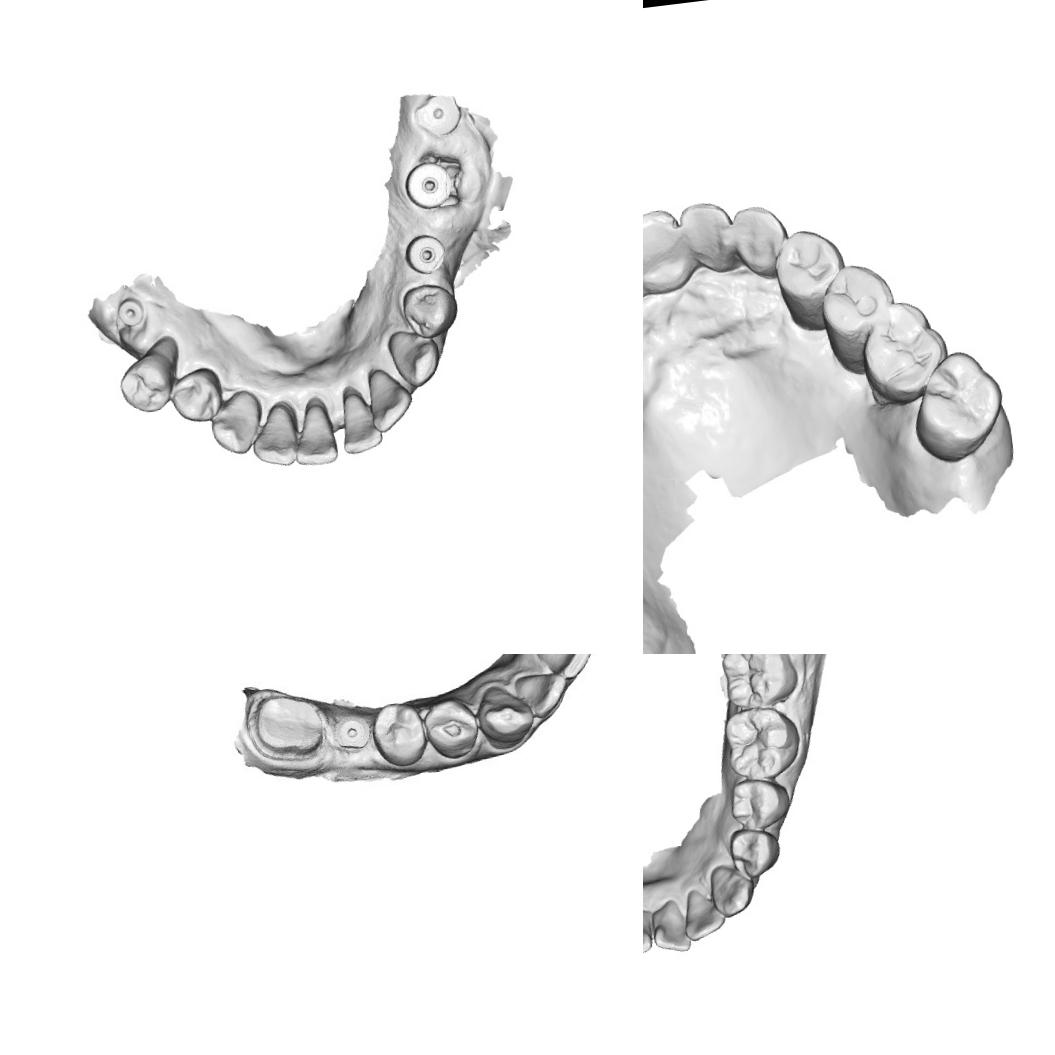canine: (727, 201, 794, 282), (472, 680, 538, 750), (206, 389, 266, 459), (384, 325, 446, 390), (706, 860, 758, 919)
crown: (249, 686, 332, 761)
implant: (408, 88, 466, 142), (402, 160, 455, 213), (402, 230, 450, 278), (332, 710, 374, 757), (113, 295, 149, 330)
incisor: (676, 196, 743, 272), (643, 206, 689, 290), (363, 365, 415, 434), (286, 402, 338, 467), (336, 390, 385, 456), (249, 410, 300, 469), (518, 666, 570, 720), (679, 885, 728, 942), (648, 897, 693, 955), (534, 654, 594, 683), (643, 903, 654, 961)
molar: (906, 344, 1012, 462), (854, 296, 950, 408), (722, 702, 804, 782), (716, 654, 801, 712)
premolar: (815, 257, 900, 349), (769, 223, 850, 312), (368, 698, 432, 770), (422, 694, 487, 764), (113, 350, 179, 418), (398, 280, 462, 344), (726, 774, 794, 832), (167, 364, 227, 426), (726, 822, 784, 882)
